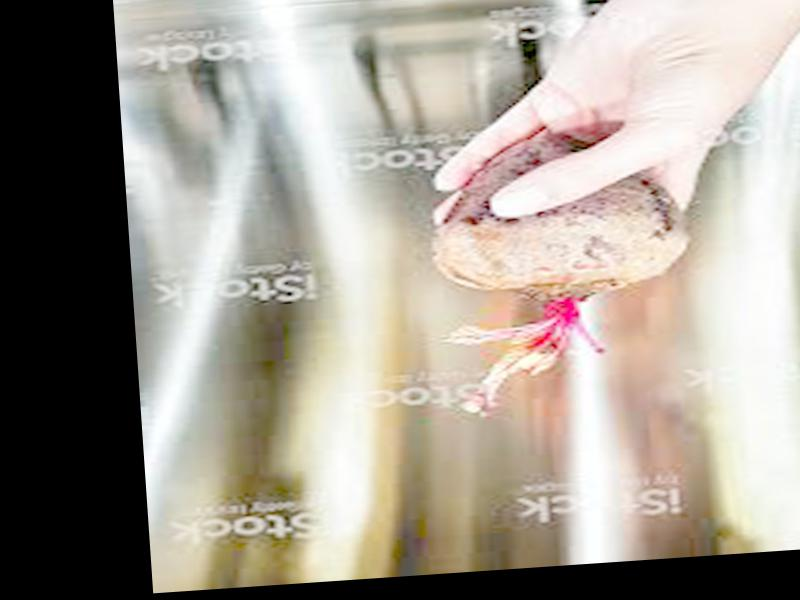Beet: (424, 124, 695, 411)
